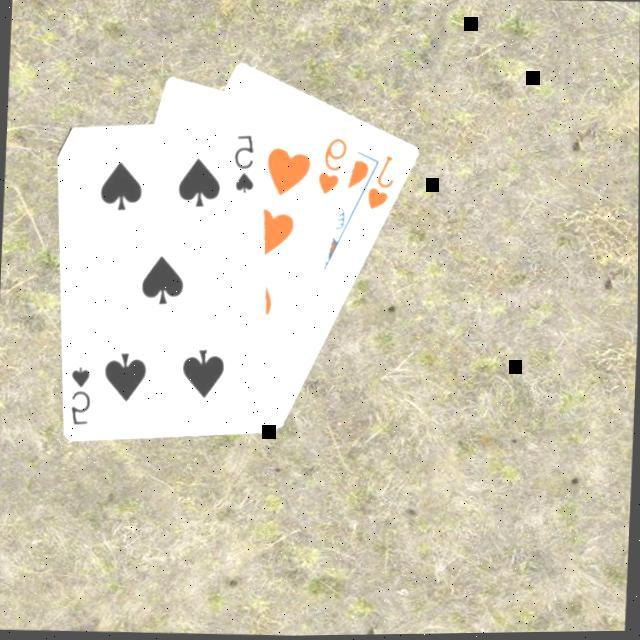5S: (228, 129, 258, 195), (66, 360, 94, 426)
9H: (313, 133, 349, 198)
JH: (362, 150, 396, 213)
